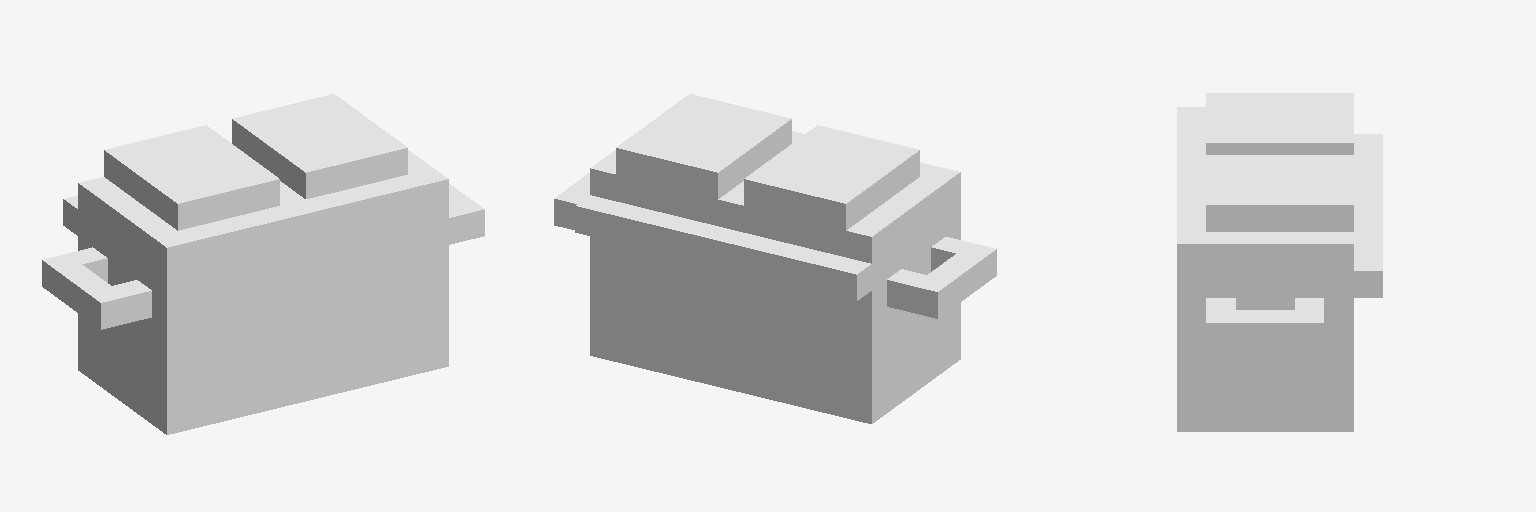
File: Trash_big.obj
3 views of the same model, side by side, from view 1: azimuth 30°, elevation 25°; view 2: azimuth 150°, elevation 25°; view 3: azimuth 270°, elevation 25° (orthographic).
Visible parts, largest first — view 1: Trash_big; view 2: Trash_big; view 3: Trash_big.
Part boxes in pixels (bbox=[...]): Trash_big: bbox=[42, 94, 484, 434]; Trash_big: bbox=[554, 94, 996, 423]; Trash_big: bbox=[1177, 93, 1382, 431].
Bounding box in the file's own units: 15 × 8 × 7.